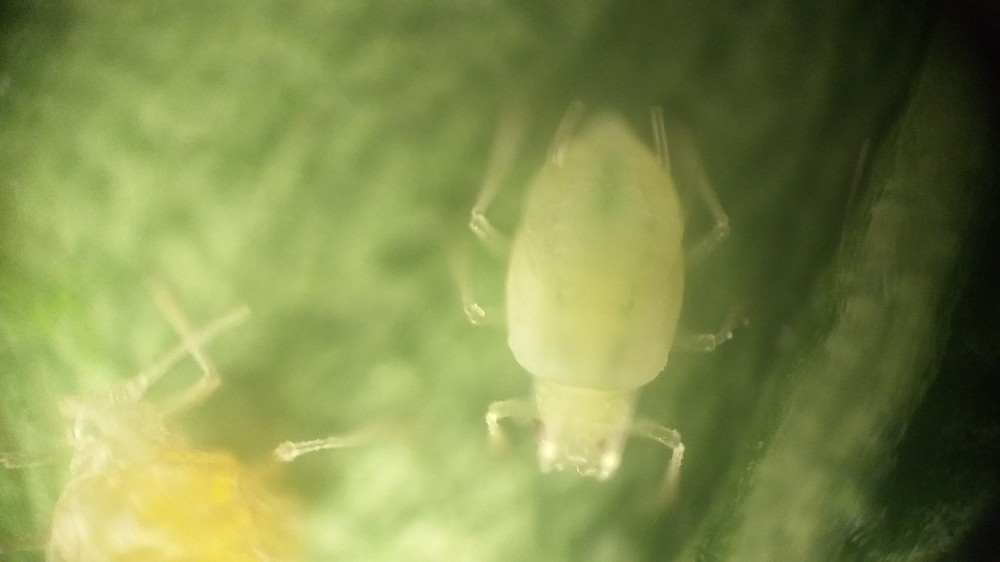Pulgon: (426, 93, 766, 524), (6, 297, 370, 560)
